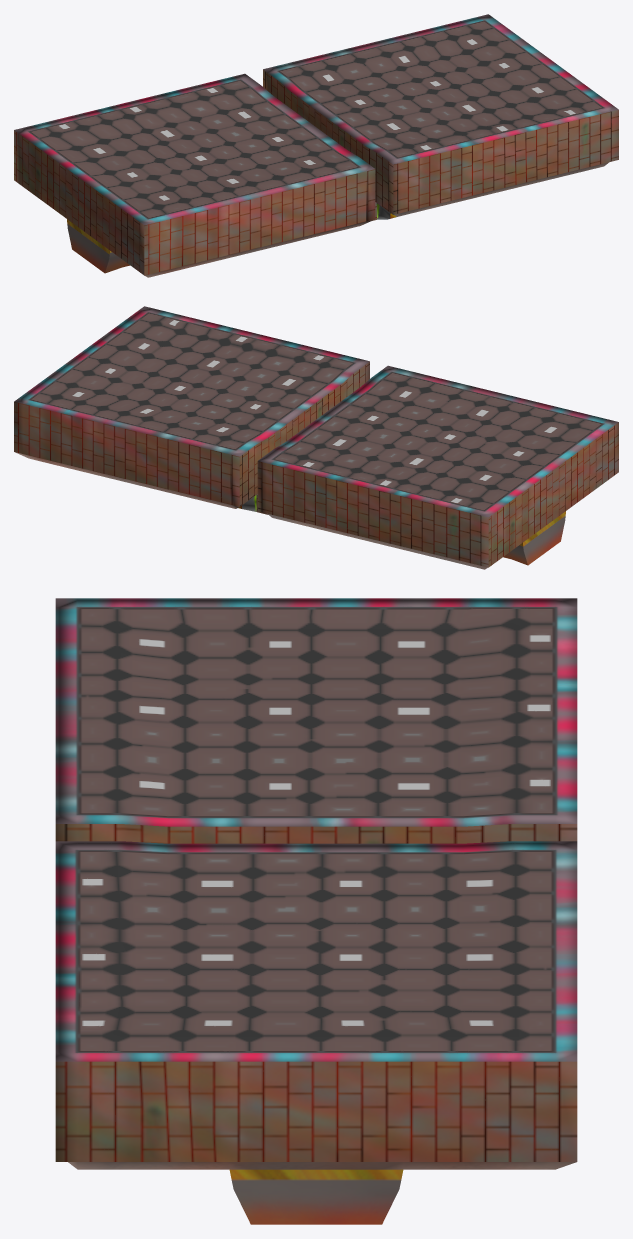
File: Factory_Floor.fbx
The picture shows the model from 3 angles, top to bottom: view 1: azimuth 30°, elevation 25°; view 2: azimuth 150°, elevation 25°; view 3: azimuth 270°, elevation 25°; orthographic projection. The views are drawn at different scales.
Visible parts, largest first — view 1: Factory_shell_mesh2; view 2: Factory_shell_mesh2; view 3: Factory_shell_mesh2.
Boxes of the visible parts, x1,y1,x2,y2 form: Factory_shell_mesh2: [14, 14, 618, 277]; Factory_shell_mesh2: [14, 306, 618, 569]; Factory_shell_mesh2: [55, 598, 577, 1224].
Size of the model in its own units: 4.2 by 0.7279 by 2.
